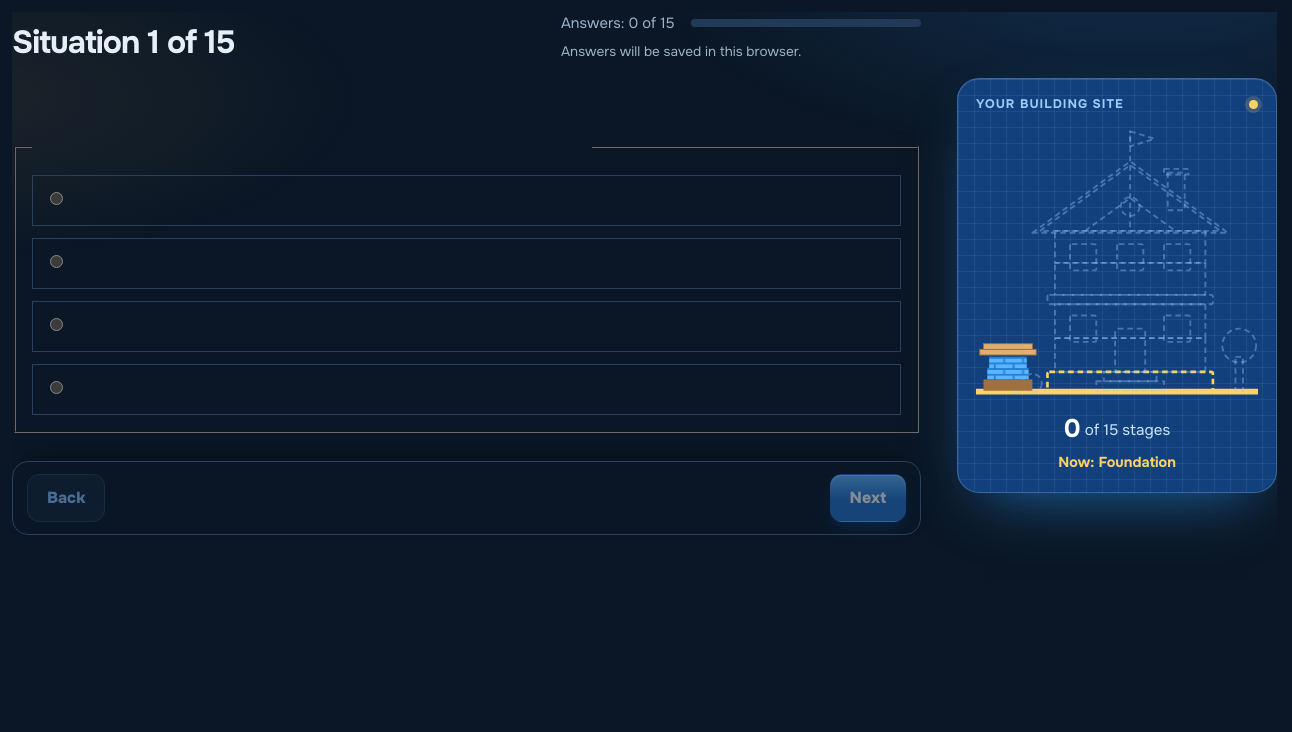
Test: английский интерфейс › на экране вопроса рамка английская, а текст ситуации и вариантов остаётся русским
Expected: the heading "Situation 1 of 15" is shown, 12,25 -> 235,62
Expected: the button "Next" is disabled, 830,474 -> 906,522
Click the radio button labelled "Демонстрационный вариант B" at x=56, y=262, box 50,255 -> 63,268
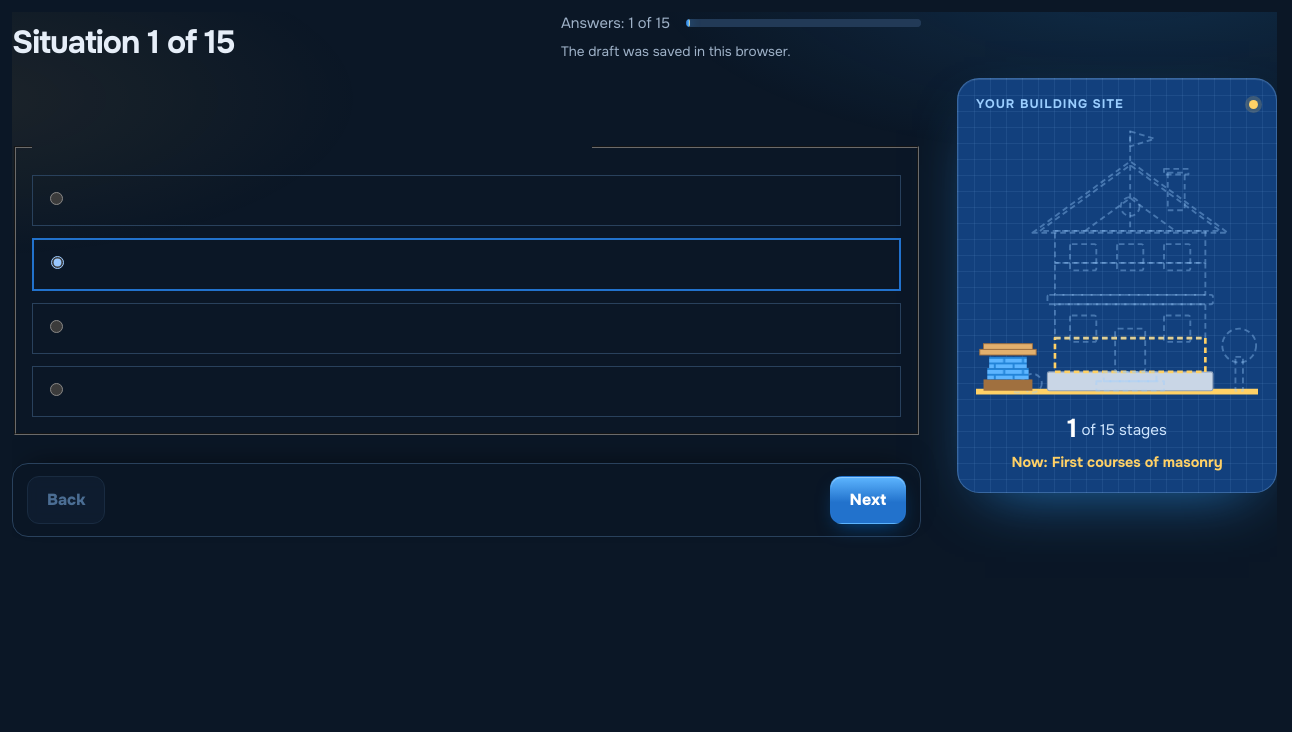
Click the button "Next" at x=868, y=500, box 830,476 -> 906,524
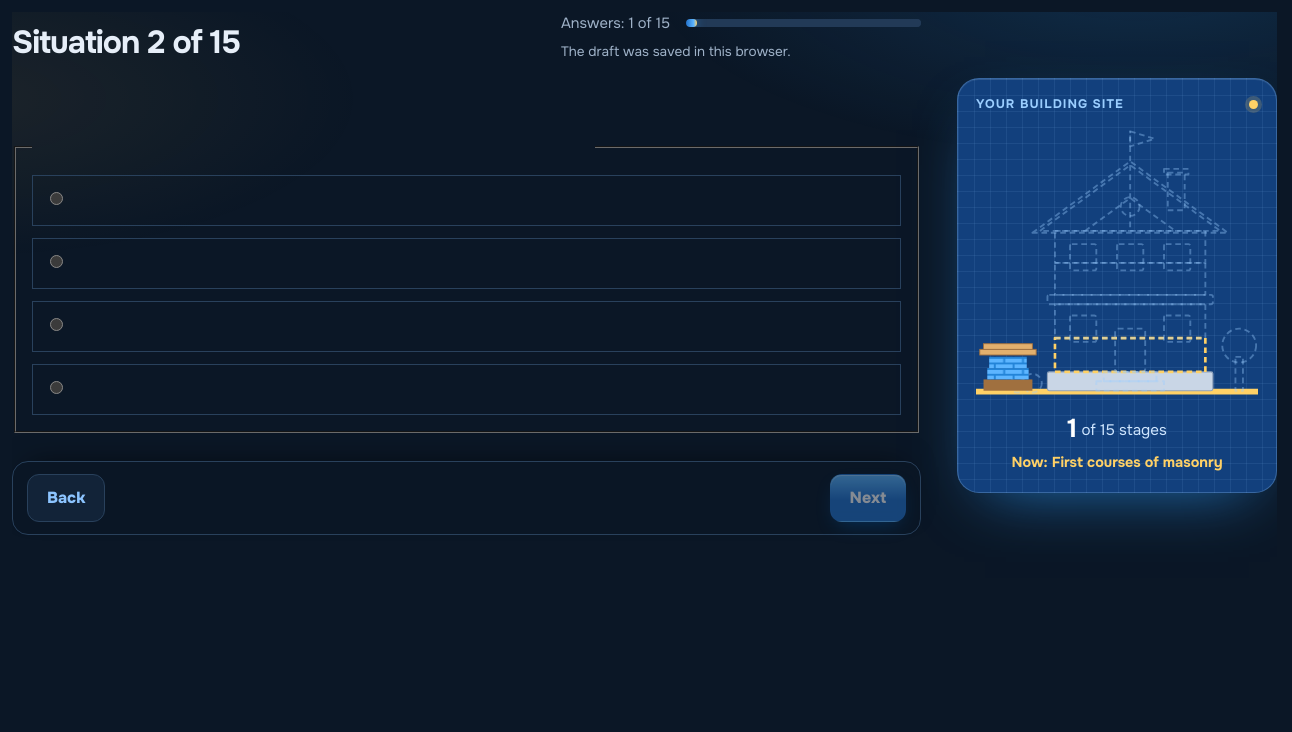
Expected: the heading "Situation 2 of 15" is shown, 12,25 -> 240,62
